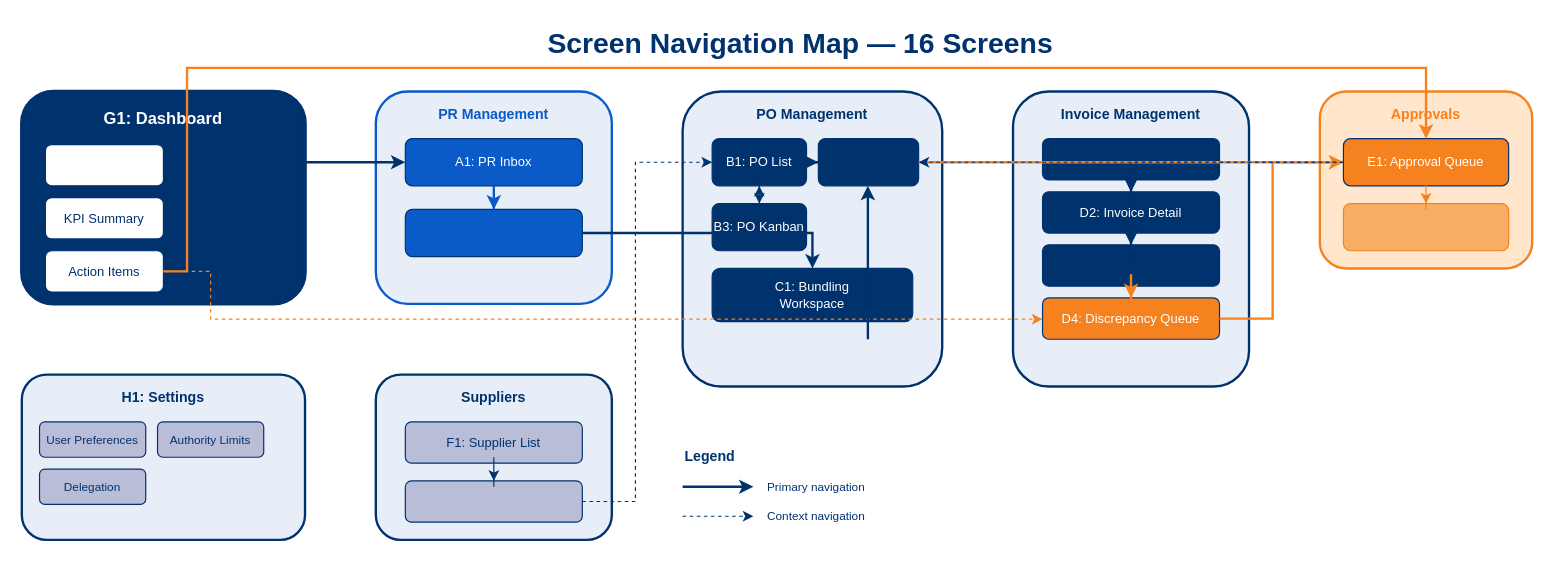
Image size: 1554x561. Some labels were removed from this diagram. Here are the shapes that lost their labels. From the top down, the centre of each, then its label:
point 103,164: Morning Briefing
point 868,161: B2: PO Detail
point 1130,158: D1: Invoice List
point 493,232: A2: PR Detail
point 1425,226: E2: Approval History
point 1130,265: D3: Match Results
point 493,501: F2: Supplier Detail
